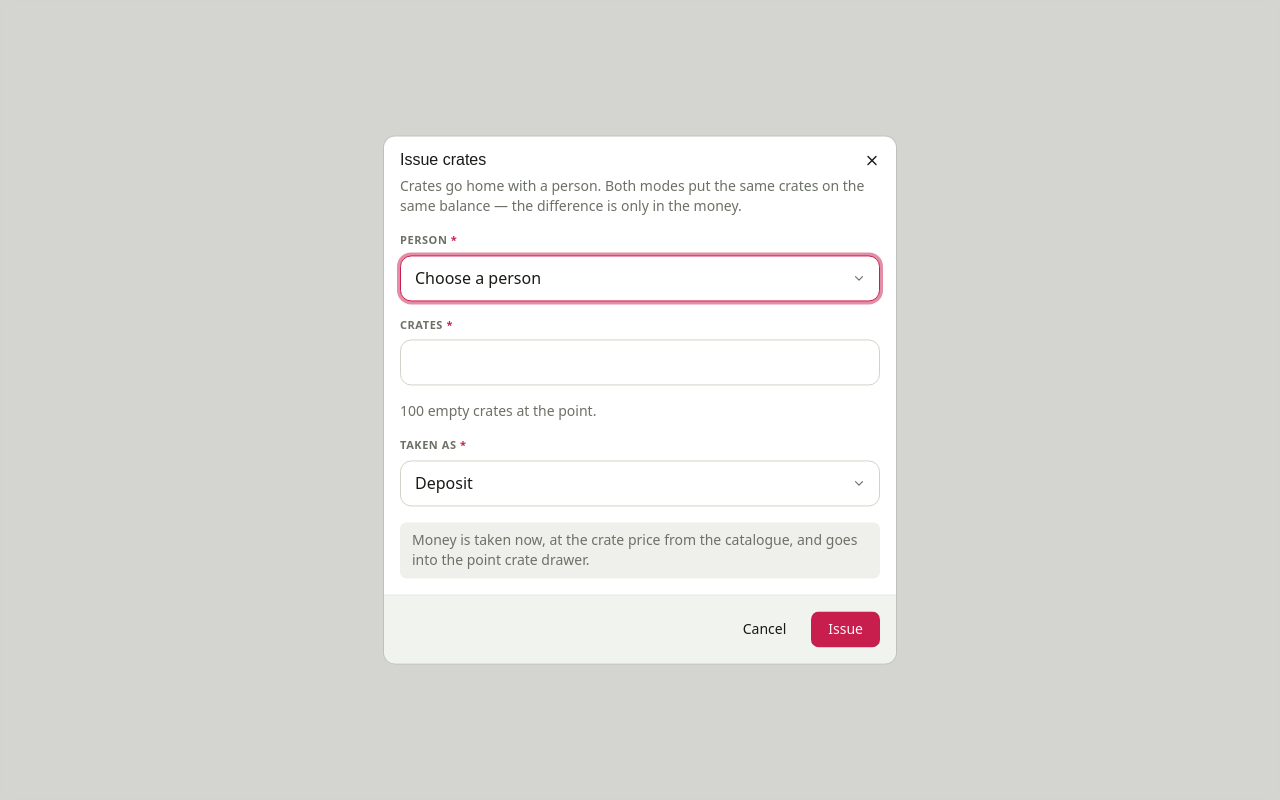
Scenario: IssueCratesDialog › refuses a missing person
Type "20" into the field labelled "Crates" at [640, 363], box [400, 340, 880, 386]
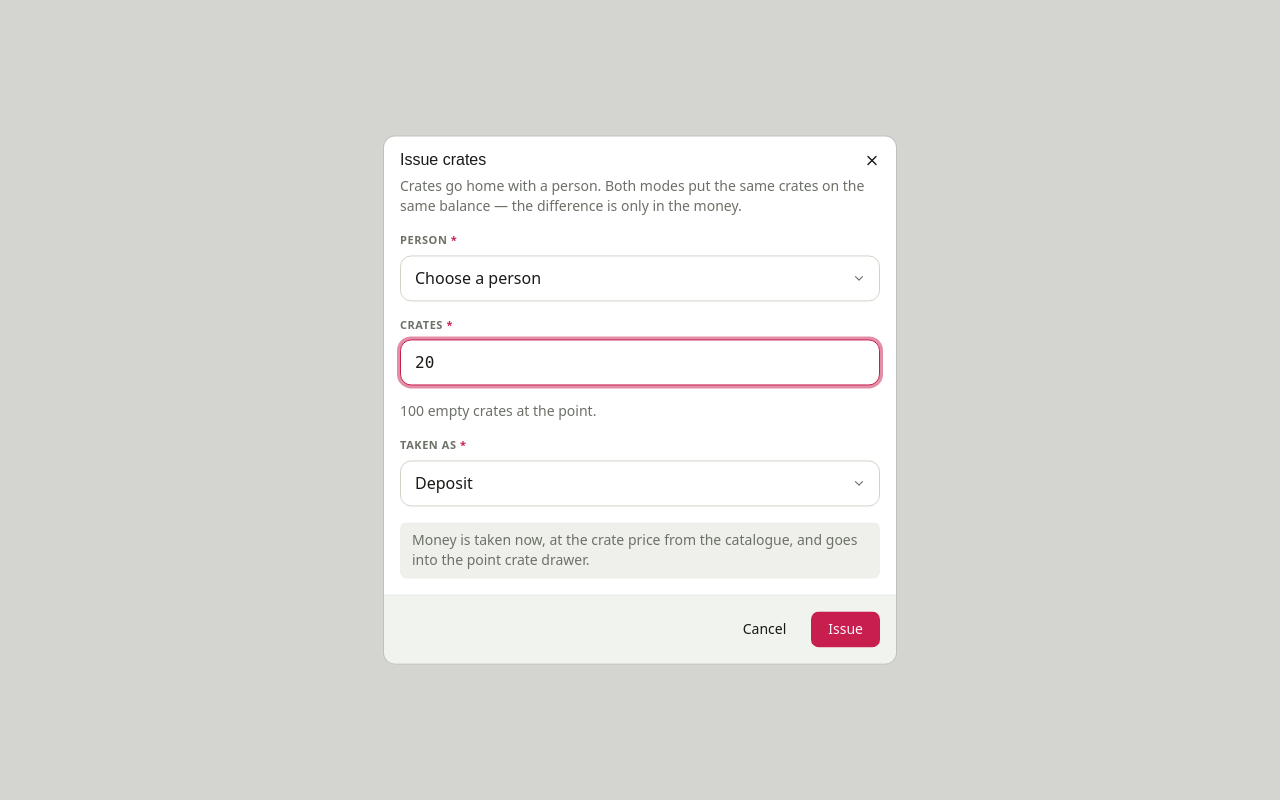
Click the button "Issue" at [846, 630], box [811, 612, 880, 648]
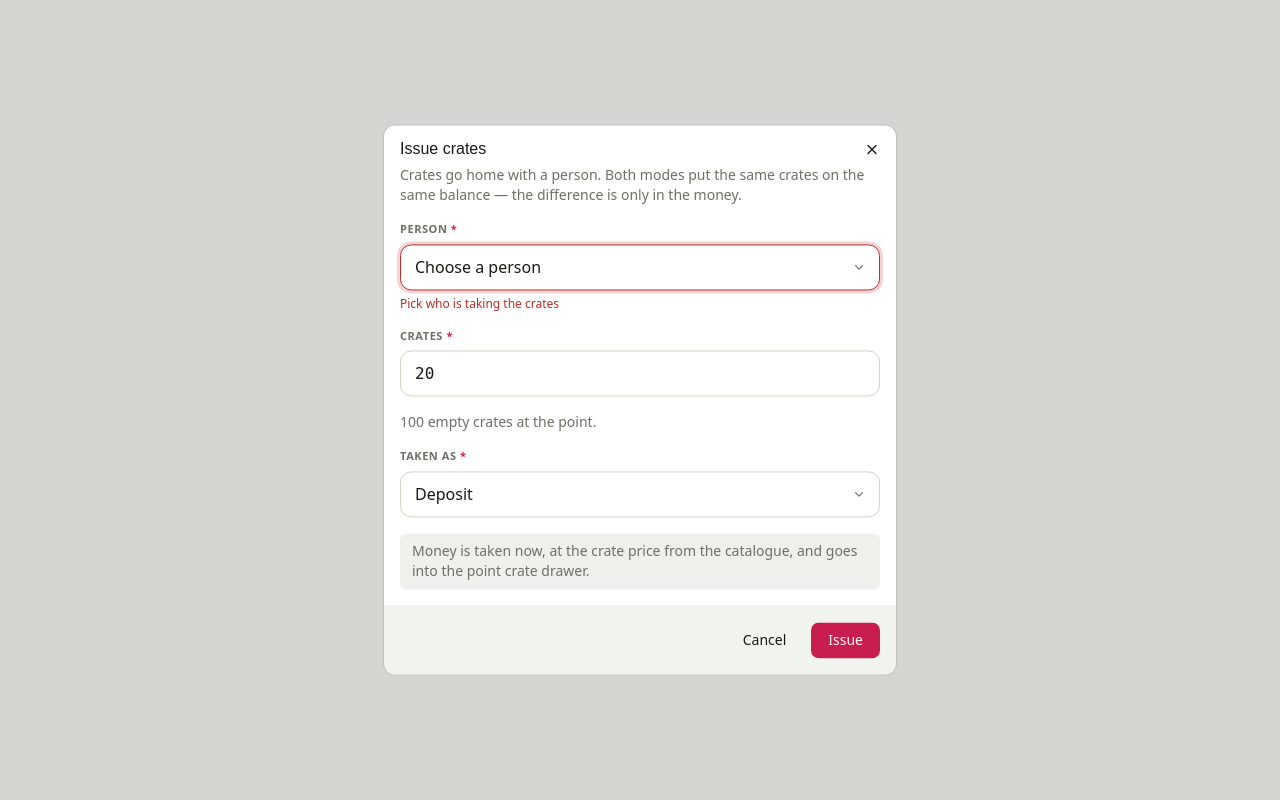
Now the text "Pick who is taking the crates" is shown, box [400, 295, 559, 312]
